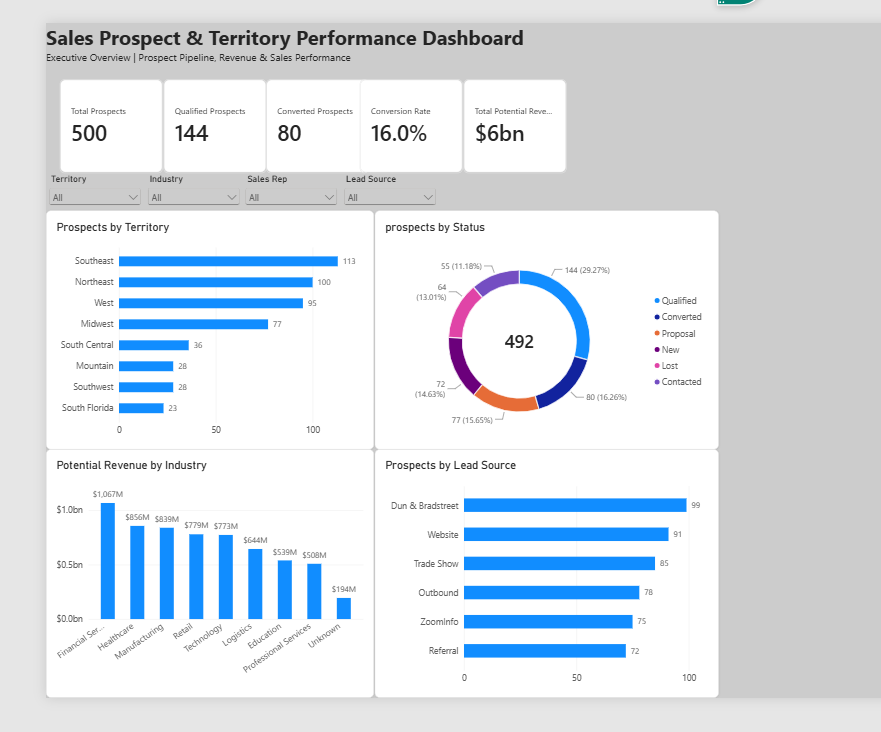

This screenshot's page, from the dashboard's own definition file:
{"tool":"powerbi","page":{"name":"Executive Overview","canvas":[1920,1080],"ordinal":0},"visuals":[{"type":"cardVisual","fields":{"Data":["Sales Prospects.Total Prospects"]},"box":[22.5,90,165,150],"z":0},{"type":"textbox","box":[0,0,1005,90],"z":1000},{"type":"cardVisual","fields":{"Data":["Sales Prospects.Qualified Prospects"]},"box":[187.5,90,165,150],"z":2000},{"type":"cardVisual","fields":{"Data":["Sales Prospects.Converted Prospects"]},"box":[352.5,90,165,150],"z":3000},{"type":"cardVisual","fields":{"Data":["Sales Prospects.Conversion Rate"]},"box":[502.5,90,165,150],"z":4000},{"type":"cardVisual","fields":{"Data":["Sales Prospects.Total Potential Revenue"]},"box":[667.5,90,165,150],"z":5000},{"type":"clusteredBarChart","title":"Prospects by Territory","fields":{"Category":["Sales Prospects.Territory"],"Y":["Sales Prospects.Total Prospects"]},"box":[0,300,525,382.5],"z":6000},{"type":"donutChart","title":"prospects by Status","fields":{"Category":["Sales Prospects.Status"],"Y":["Sales Prospects.Total Prospects"]},"box":[525,300,550,382.5],"z":7000},{"type":"clusteredColumnChart","title":"Potential Revenue by Industry","fields":{"Category":["Sales Prospects.Industry"],"Y":["Sales Prospects.Total Potential Revenue"]},"box":[0,682.5,525,397.5],"z":8000},{"type":"clusteredBarChart","title":"Prospects by Lead Source","fields":{"Category":["Sales Prospects.Lead Source"],"Y":["Sales Prospects.Total Prospects"]},"box":[525,682.5,550,397.5],"z":9000},{"type":"slicer","fields":{"Values":["Sales Prospects.Territory"]},"box":[0,240,157.1,84.3],"z":10000},{"type":"slicer","fields":{"Values":["Sales Prospects.Sales Rep"]},"box":[314.3,240,157.1,84.3],"z":11000},{"type":"slicer","fields":{"Values":["Sales Prospects.Industry"]},"box":[157.1,240,157.1,84.3],"z":12000},{"type":"slicer","fields":{"Values":["Sales Prospects.Lead Source"]},"box":[471.4,240,157.1,84.3],"z":13000}]}

Visuals, with their boxes on the page's 1920x1080 design canvas (x1, y1, x2, y2). These are canvas units, not pixel positions in the 881x732 screenshot, which may show the page scaled, cropped or inside an application window:
cardVisual - Sales Prospects.Total Prospects: rect(22, 90, 188, 240)
textbox: rect(0, 0, 1005, 90)
cardVisual - Sales Prospects.Qualified Prospects: rect(188, 90, 352, 240)
cardVisual - Sales Prospects.Converted Prospects: rect(352, 90, 518, 240)
cardVisual - Sales Prospects.Conversion Rate: rect(502, 90, 668, 240)
cardVisual - Sales Prospects.Total Potential Revenue: rect(668, 90, 832, 240)
"Prospects by Territory" clusteredBarChart: rect(0, 300, 525, 682)
"prospects by Status" donutChart: rect(525, 300, 1075, 682)
"Potential Revenue by Industry" clusteredColumnChart: rect(0, 682, 525, 1080)
"Prospects by Lead Source" clusteredBarChart: rect(525, 682, 1075, 1080)
slicer - Sales Prospects.Territory: rect(0, 240, 157, 324)
slicer - Sales Prospects.Sales Rep: rect(314, 240, 471, 324)
slicer - Sales Prospects.Industry: rect(157, 240, 314, 324)
slicer - Sales Prospects.Lead Source: rect(471, 240, 628, 324)
